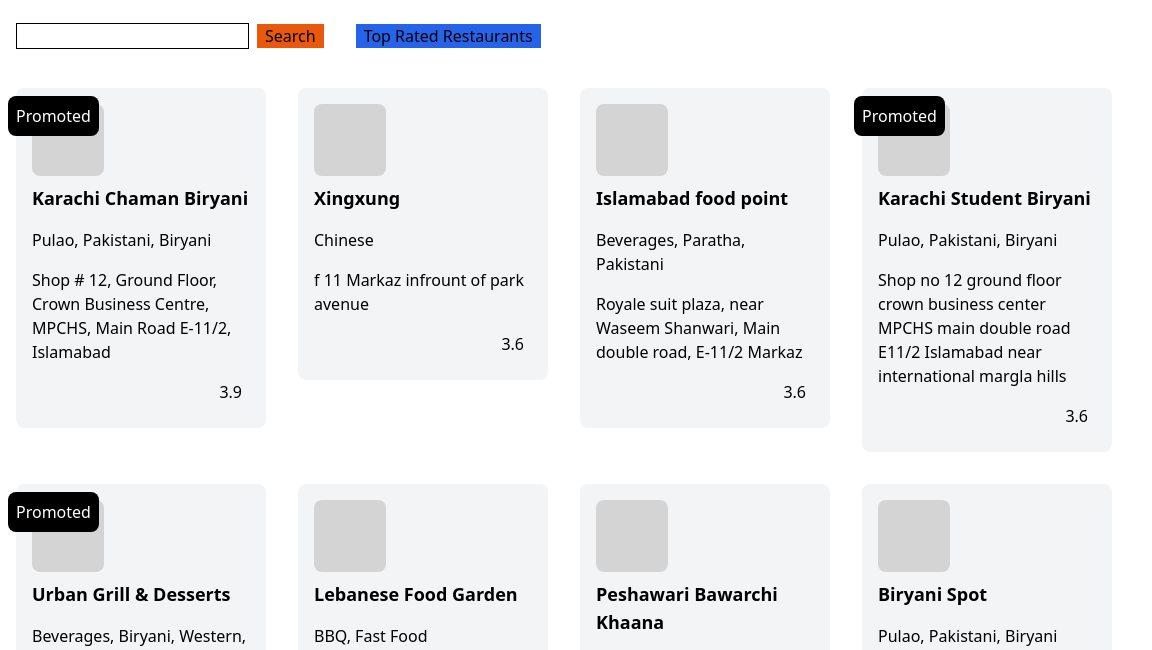
Test case: Should render 3 restaurnt cards when searched with biryani keyword
Type "biryani" into the field with test id "search-input" at (132, 36), box top-left (16, 23), bottom-right (249, 49)
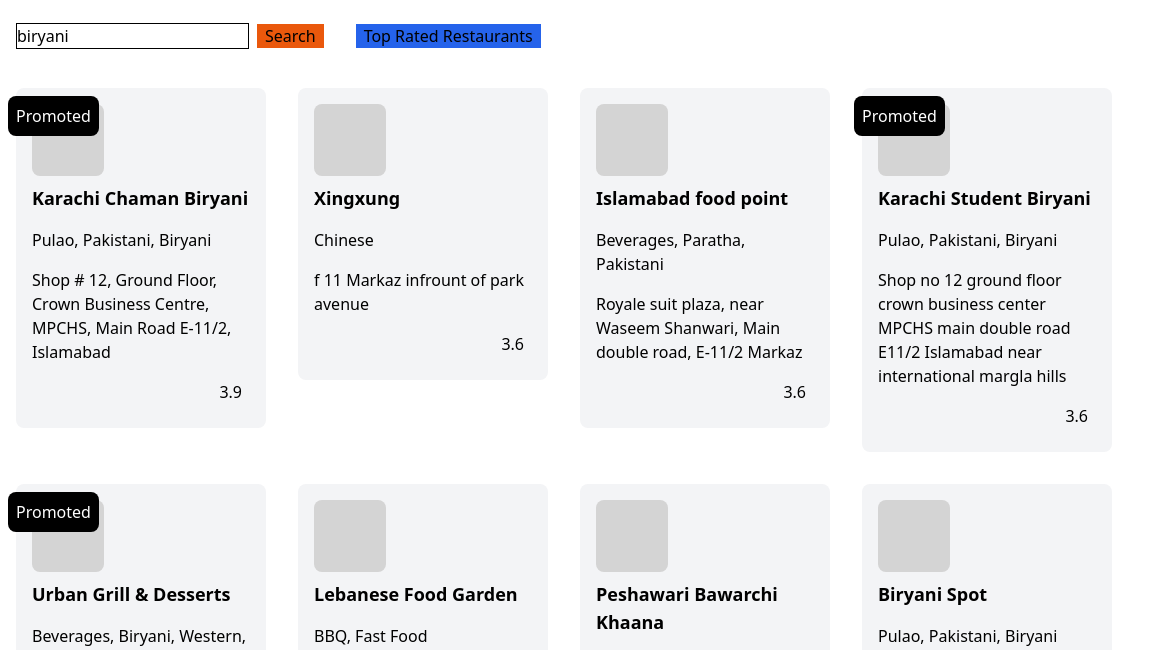
Click the button "Search" at (290, 36), box top-left (257, 24), bottom-right (324, 48)
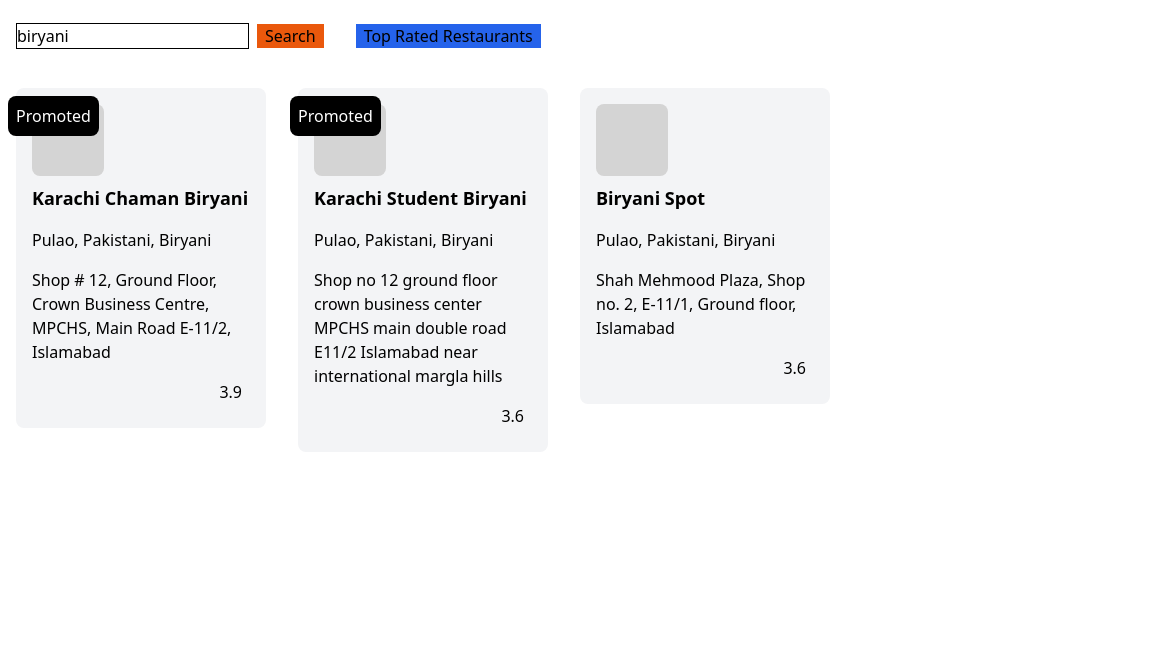
Result: the number of elements with test id "rest-card" is 3 at top-left (16, 88), bottom-right (266, 428); top-left (298, 88), bottom-right (548, 452); top-left (580, 88), bottom-right (830, 404)
